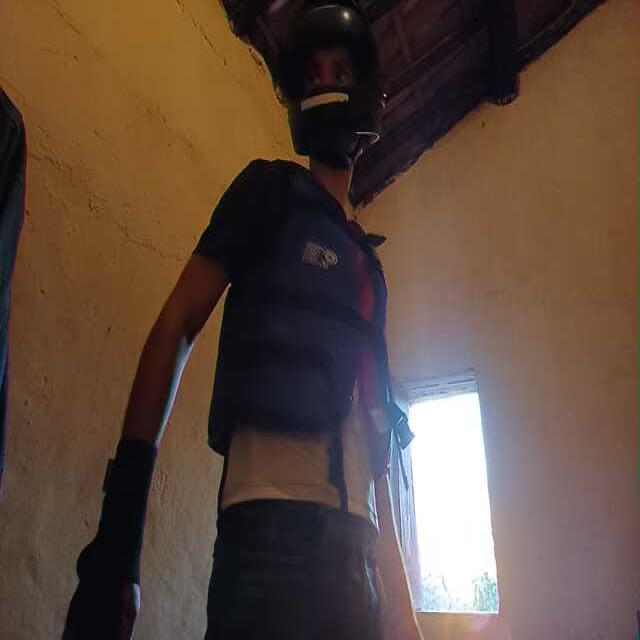capacete: (279, 0, 388, 157)
colete: (210, 153, 397, 469)
pessoa: (104, 43, 433, 638)
